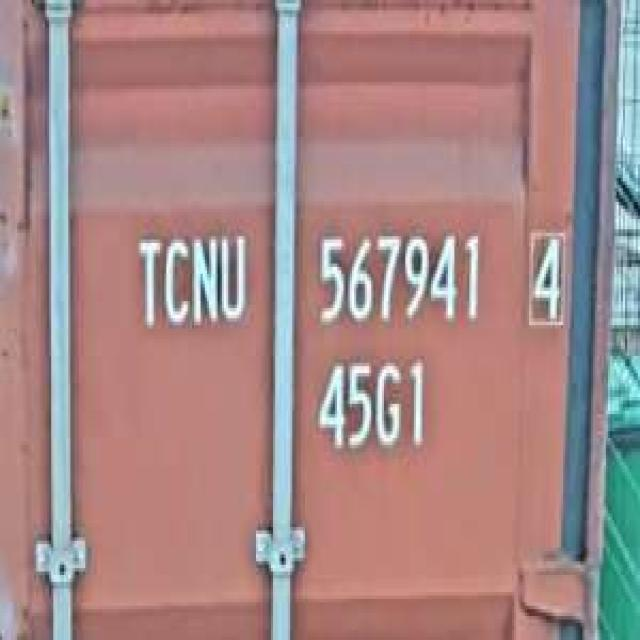dv: (520, 219, 570, 332)
owner: (130, 222, 252, 336)
serial: (308, 219, 487, 335)
size: (309, 352, 431, 466)
